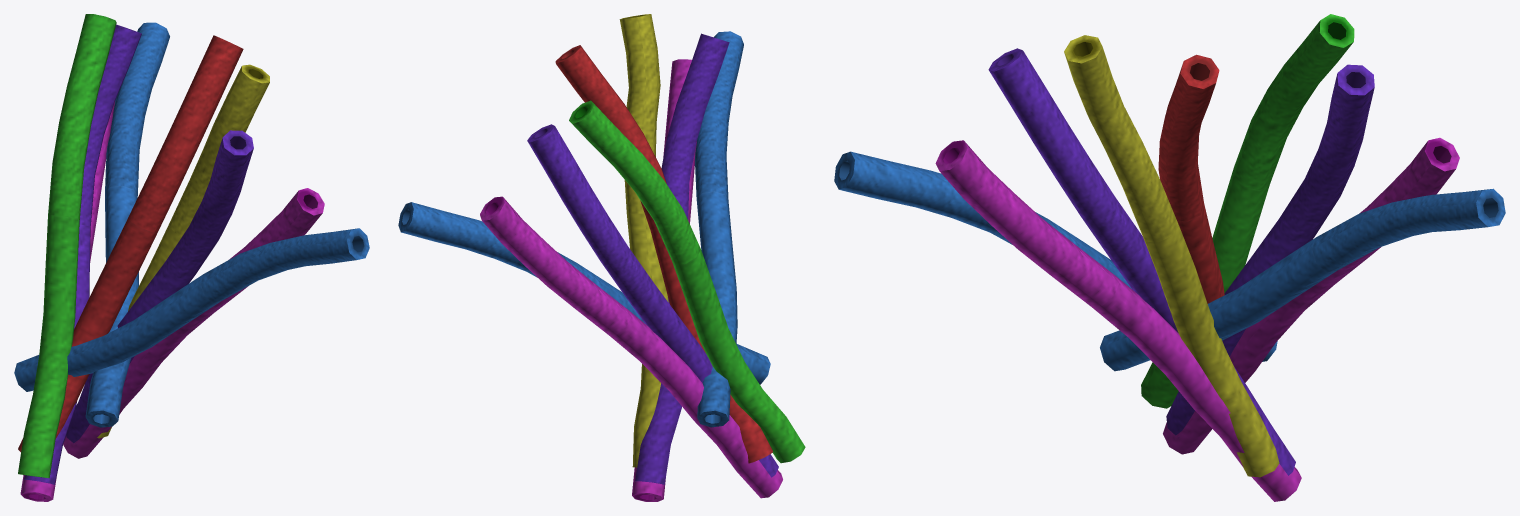
File: poolnoodlesfixed.fbx
The picture shows the model from 3 angles, left to right: view 1: azimuth 30°, elevation 25°; view 2: azimuth 150°, elevation 25°; view 3: azimuth 270°, elevation 25°; orthographic projection. The views are drawn at different scales.
Parts seen in each view (by area): view 1: NoodleRed; view 2: NoodleRed; view 3: NoodleRed.
Boxes of the visible parts, x1,y1,x2,y2 form: NoodleRed: [14, 14, 369, 501]; NoodleRed: [398, 14, 805, 501]; NoodleRed: [834, 14, 1505, 501].
Size of what is drawn, in the model's own units: 167 by 241 by 286.
Materials: 1 (1 with a texture image).
